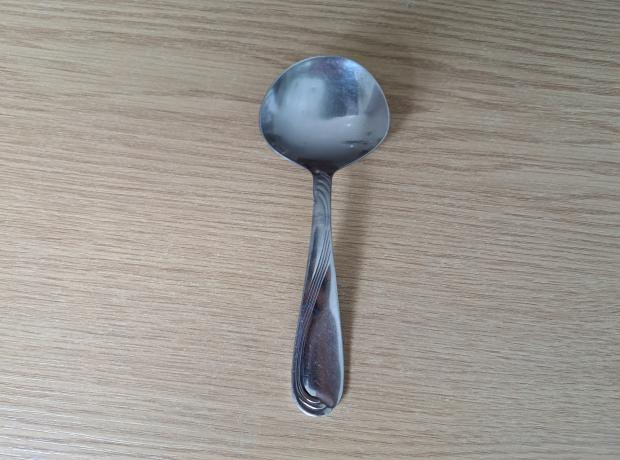metal: (255, 56, 392, 439)
